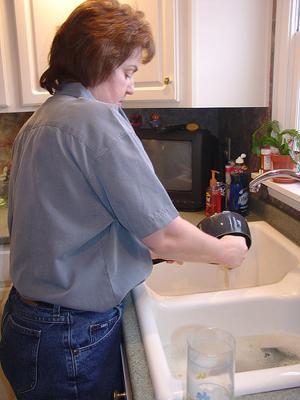person: (2, 2, 247, 400)
